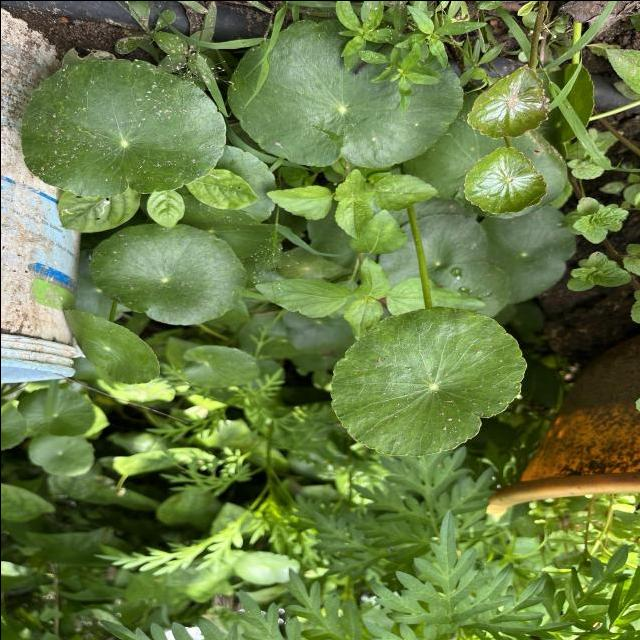Bacopa monnieri: (224, 13, 466, 172), (328, 303, 531, 459), (19, 55, 228, 200), (87, 220, 250, 328), (59, 306, 162, 386), (464, 60, 553, 141), (462, 144, 548, 218)
